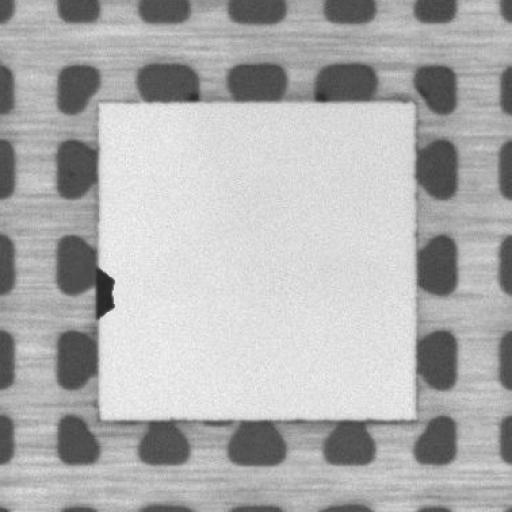DIE_BROKEN: (91, 265, 116, 321)
